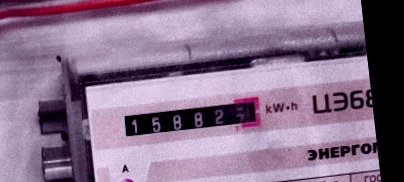1: (128, 117, 139, 134)
2: (212, 106, 224, 124)
5: (149, 114, 161, 131)
7: (234, 111, 245, 123)
8: (191, 110, 203, 128), (170, 113, 182, 130)
screen: (115, 91, 267, 146)
